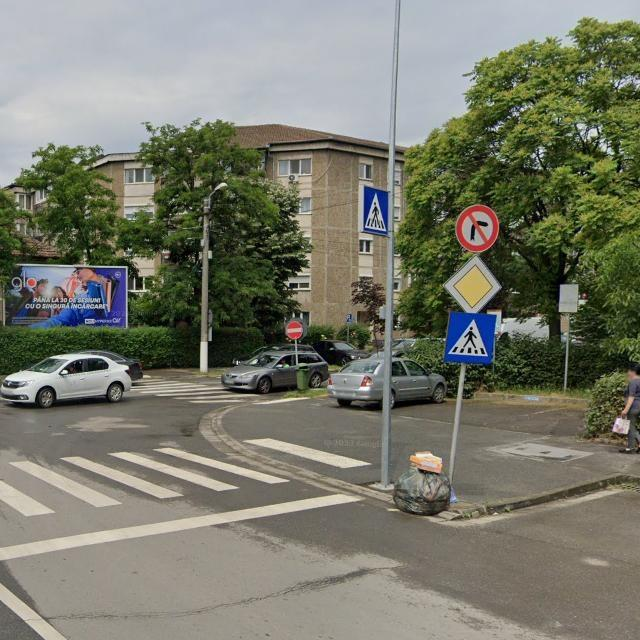info_crosswalk: (444, 312, 498, 363), (361, 185, 391, 238)
